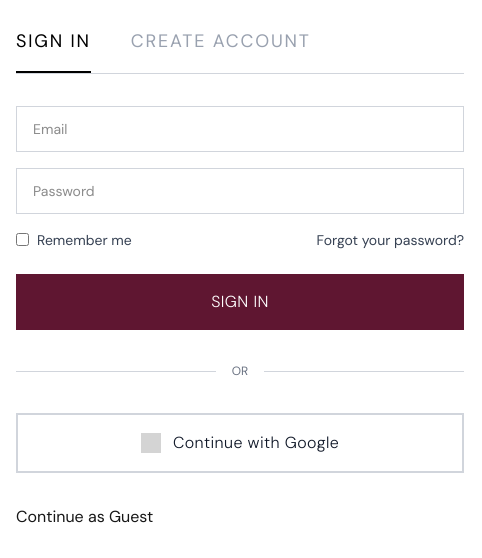
Scenario: Login Page › Sign In interactions › shows an error message when a required email is missing for password reset
Click the button "Forgot your password?". click: [390, 240]
box: [316, 230, 464, 250]
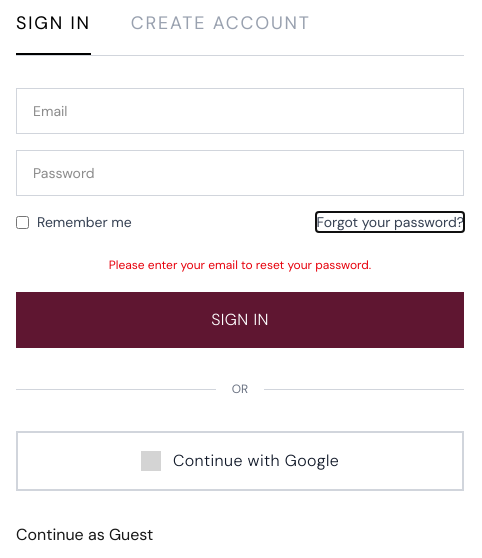
Expected: the text "Please enter your email to reset your password." is shown, [109, 257, 371, 273]
